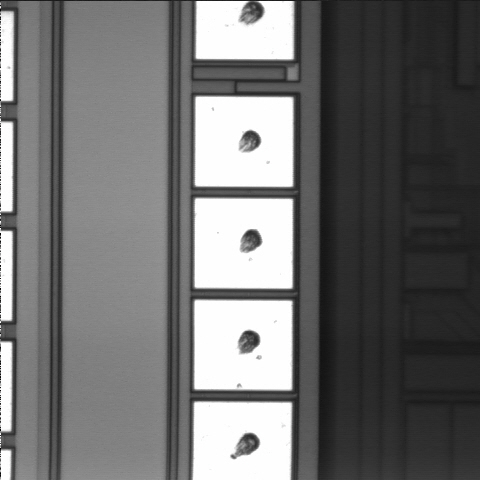pad: (195, 97, 293, 187), (195, 198, 293, 288), (194, 300, 292, 390)
